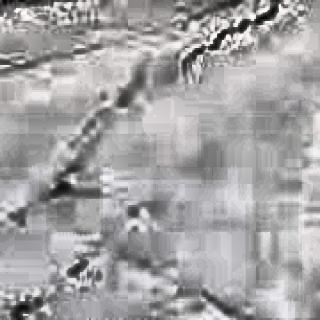crack: (176, 0, 279, 77)
